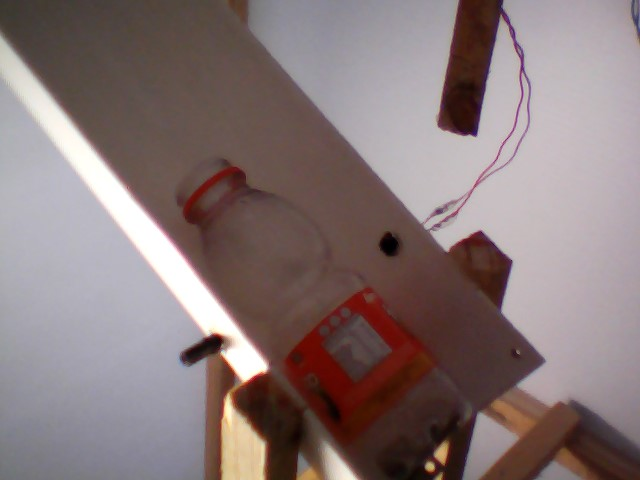plastico: (165, 151, 485, 480)
